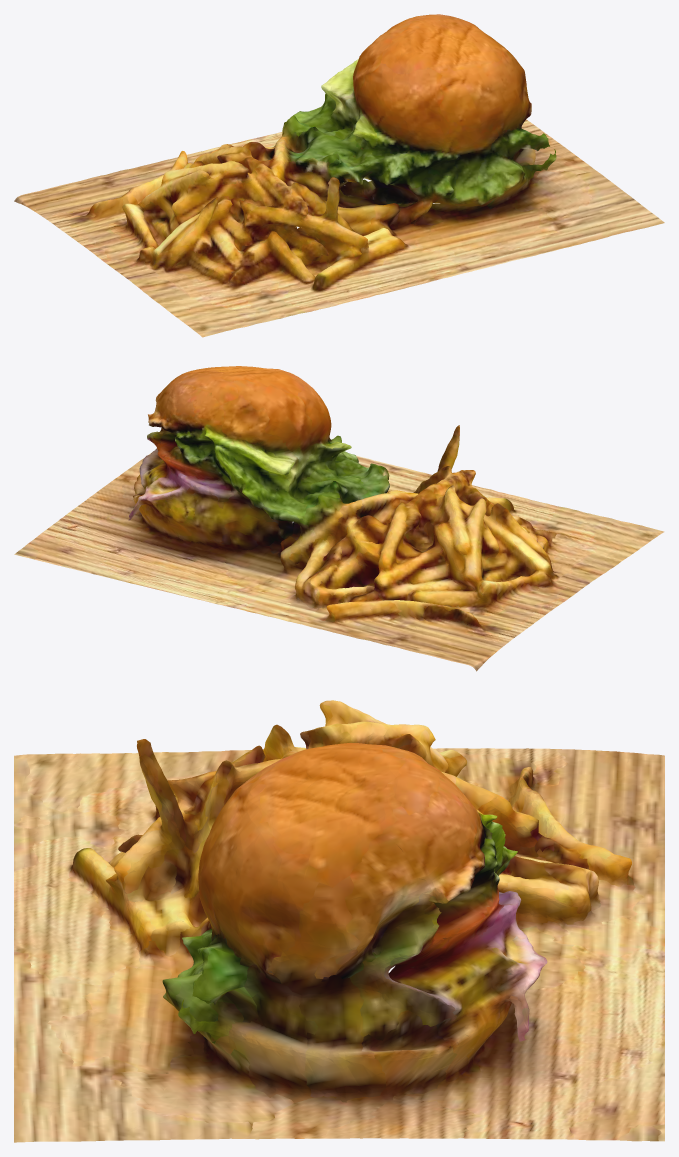
The model's file is burger.glb.
The picture shows the model from 3 angles, top to bottom: view 1: azimuth 30°, elevation 25°; view 2: azimuth 150°, elevation 25°; view 3: azimuth 270°, elevation 25°; orthographic projection. The views are drawn at different scales.
Parts seen in each view (by area): view 1: Object_2; view 2: Object_2; view 3: Object_2.
Boxes of the visible parts, x1,y1,x2,y2 form: Object_2: (14, 14, 664, 337); Object_2: (14, 366, 664, 671); Object_2: (14, 700, 664, 1142).
Size of the model in its own units: 0.3121 by 0.1015 by 0.2203.
1 material, 1 textured.
